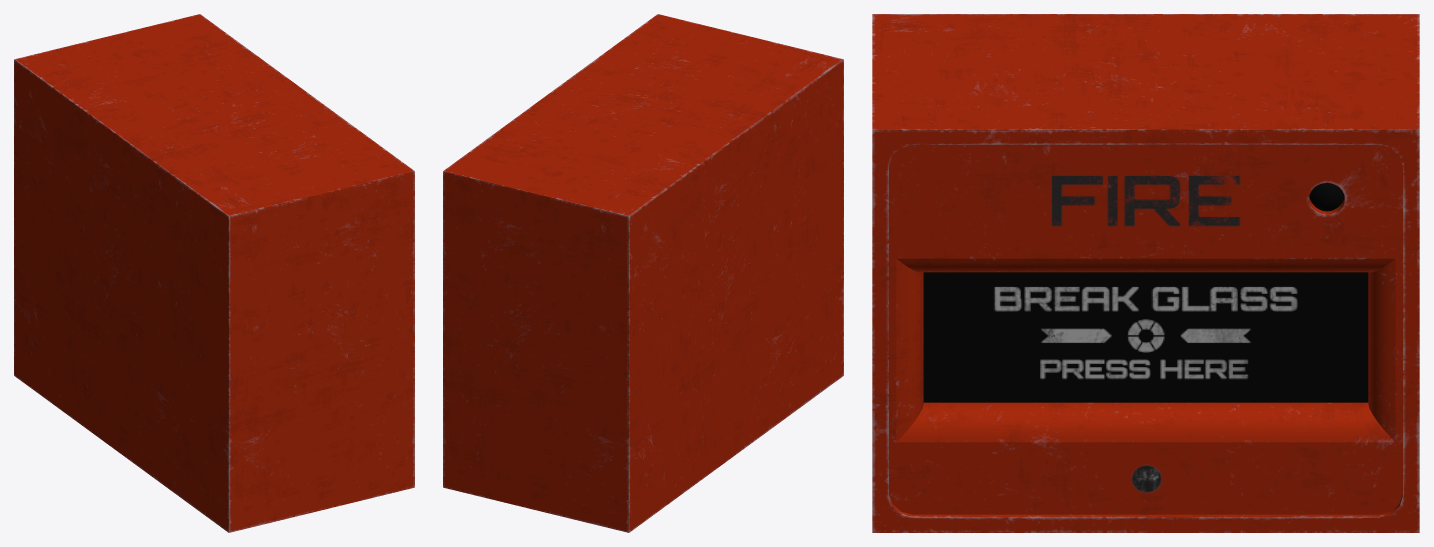
File: AlarmButton.fbx
The picture shows the model from 3 angles, left to right: view 1: azimuth 30°, elevation 25°; view 2: azimuth 150°, elevation 25°; view 3: azimuth 270°, elevation 25°; orthographic projection. The views are drawn at different scales.
Parts seen in each view (by area): view 1: Cube.002_low; view 2: Cube.002_low; view 3: Cube.002_low, Sphere_low.
Part boxes in pixels (left/top/right/bottom): Cube.002_low: left=14, top=14, right=414, bottom=532; Cube.002_low: left=443, top=14, right=843, bottom=532; Cube.002_low: left=872, top=14, right=1419, bottom=532; Sphere_low: left=923, top=183, right=1368, bottom=402.
Bounding box in the file's own units: 4 × 6.5 × 8.
1 material, 1 textured.
